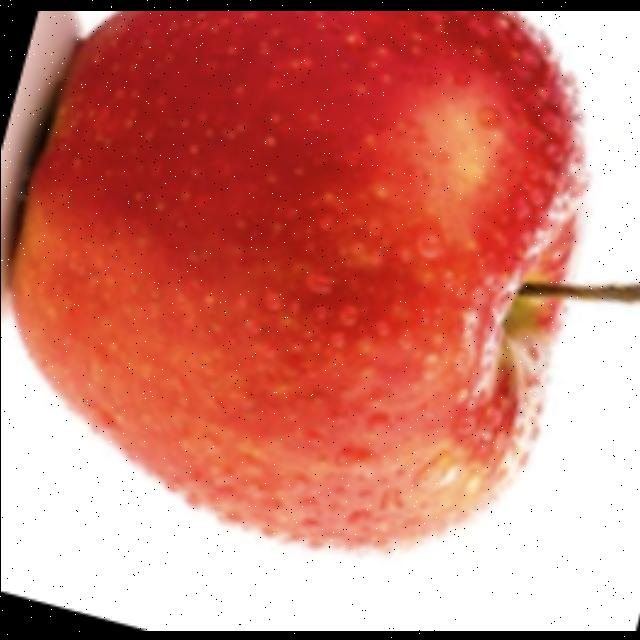Apel Segar: (4, 10, 596, 628)
